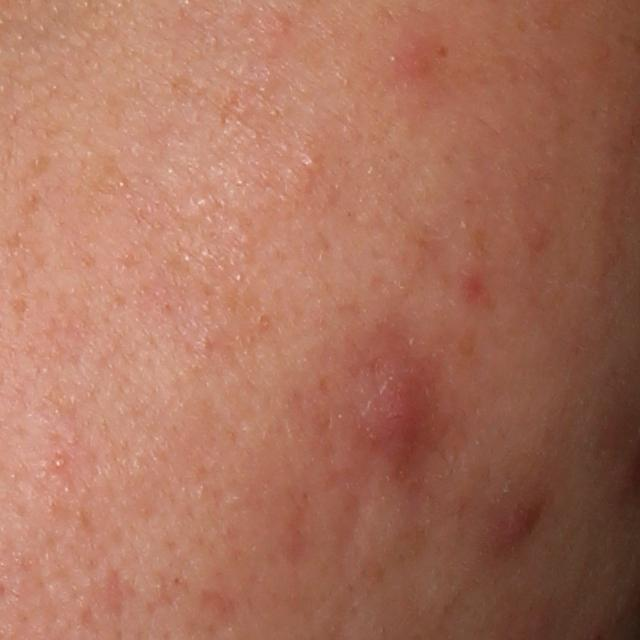papule: (349, 372, 435, 454), (476, 478, 548, 556)
